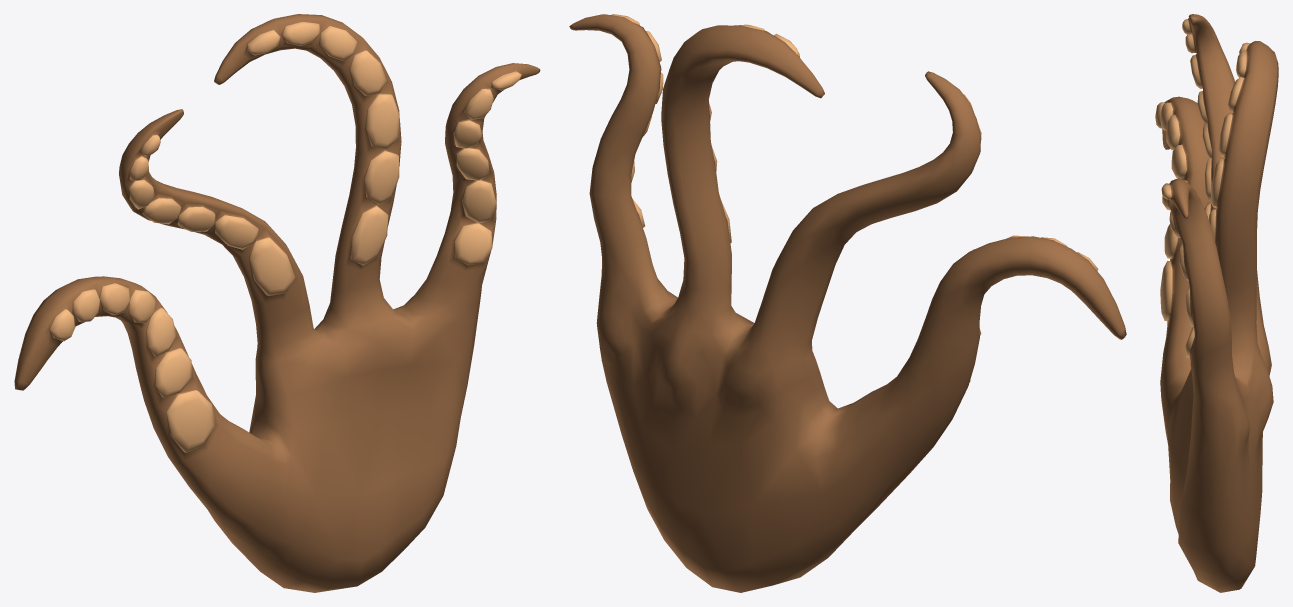
The model's file is Tentacle Hand.fbx.
3 renders of one model, left to right at view 1: azimuth 30°, elevation 25°; view 2: azimuth 150°, elevation 25°; view 3: azimuth 270°, elevation 25°, orthographic. The views are drawn at different scales.
Parts seen in each view (by area): view 1: Tentacle Hand - gigas18 (MAVG); view 2: Tentacle Hand - gigas18 (MAVG); view 3: Tentacle Hand - gigas18 (MAVG).
Boxes of the visible parts, box(x1,y1,x2,y2) form: Tentacle Hand - gigas18 (MAVG): box(14, 14, 540, 592); Tentacle Hand - gigas18 (MAVG): box(569, 14, 1126, 592); Tentacle Hand - gigas18 (MAVG): box(1155, 14, 1278, 592).
Size of the model in its own units: 93.64 by 94.72 by 20.4.
